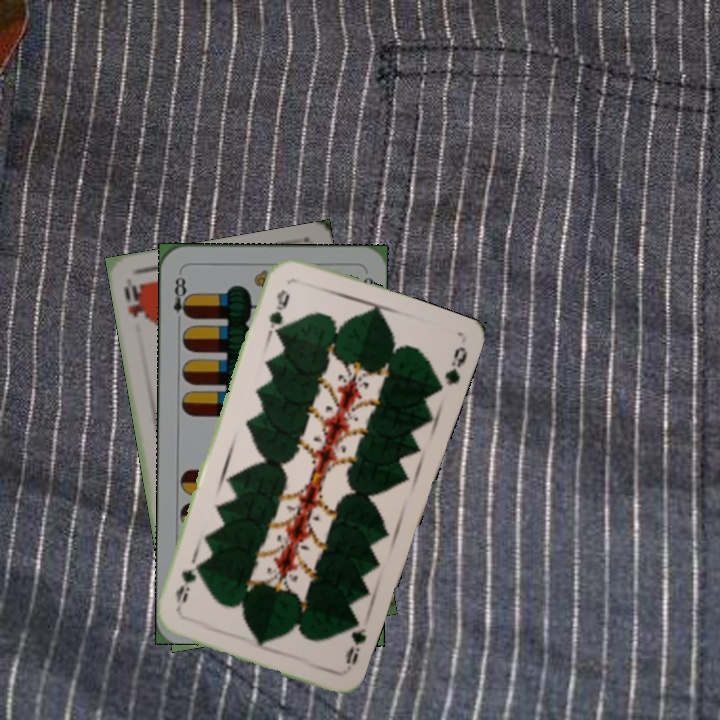E8: (169, 268, 192, 327)
G9: (341, 611, 370, 672), (264, 286, 293, 338)
HO: (120, 280, 149, 321)
